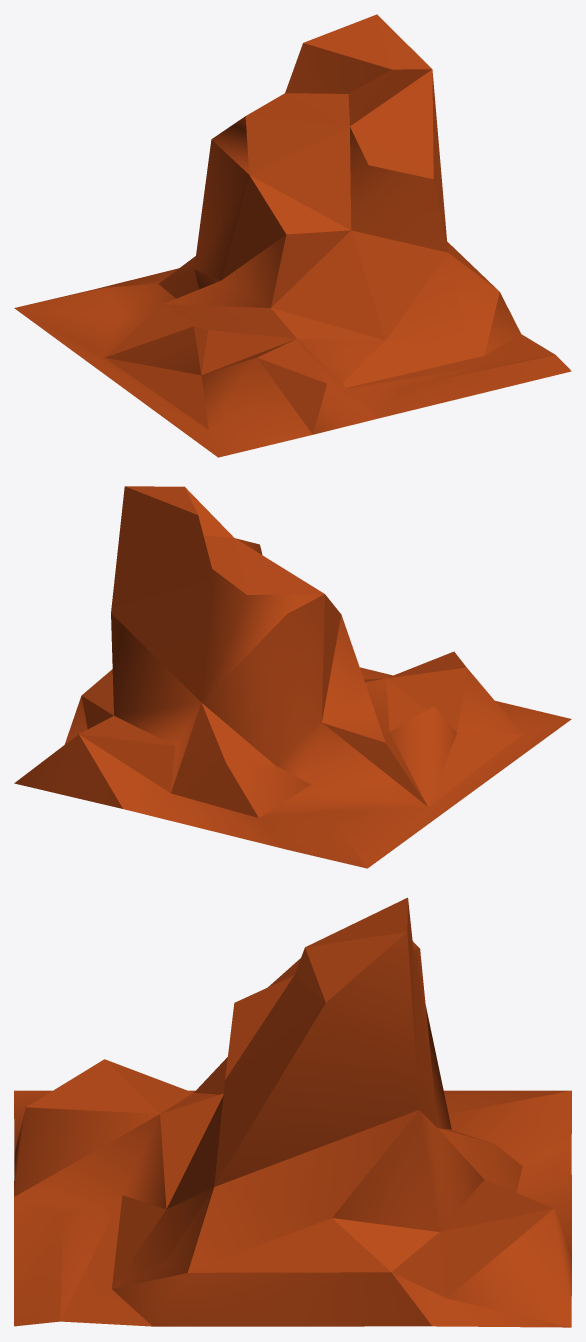
Rendered from Mountain_desert_001.glb.
3 renders of one model, top to bottom at view 1: azimuth 30°, elevation 25°; view 2: azimuth 150°, elevation 25°; view 3: azimuth 270°, elevation 25°, orthographic. The views are drawn at different scales.
Parts seen in each view (by area): view 1: Mountain_desert_001; view 2: Mountain_desert_001; view 3: Mountain_desert_001.
Part boxes in pixels (box(x1,y1,x2,y2)): Mountain_desert_001: box(14, 14, 571, 457); Mountain_desert_001: box(14, 486, 571, 868); Mountain_desert_001: box(14, 897, 571, 1327).
Size of the model in its own units: 23.04 by 16.47 by 23.
Materials: 1 (1 with a texture image).
